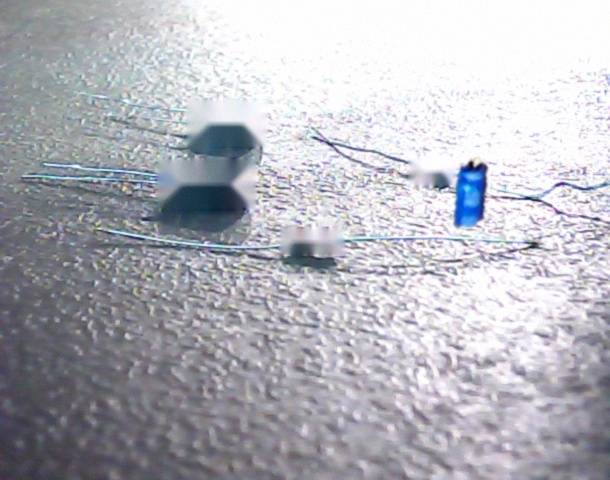capacitor: (454, 157, 488, 228)
